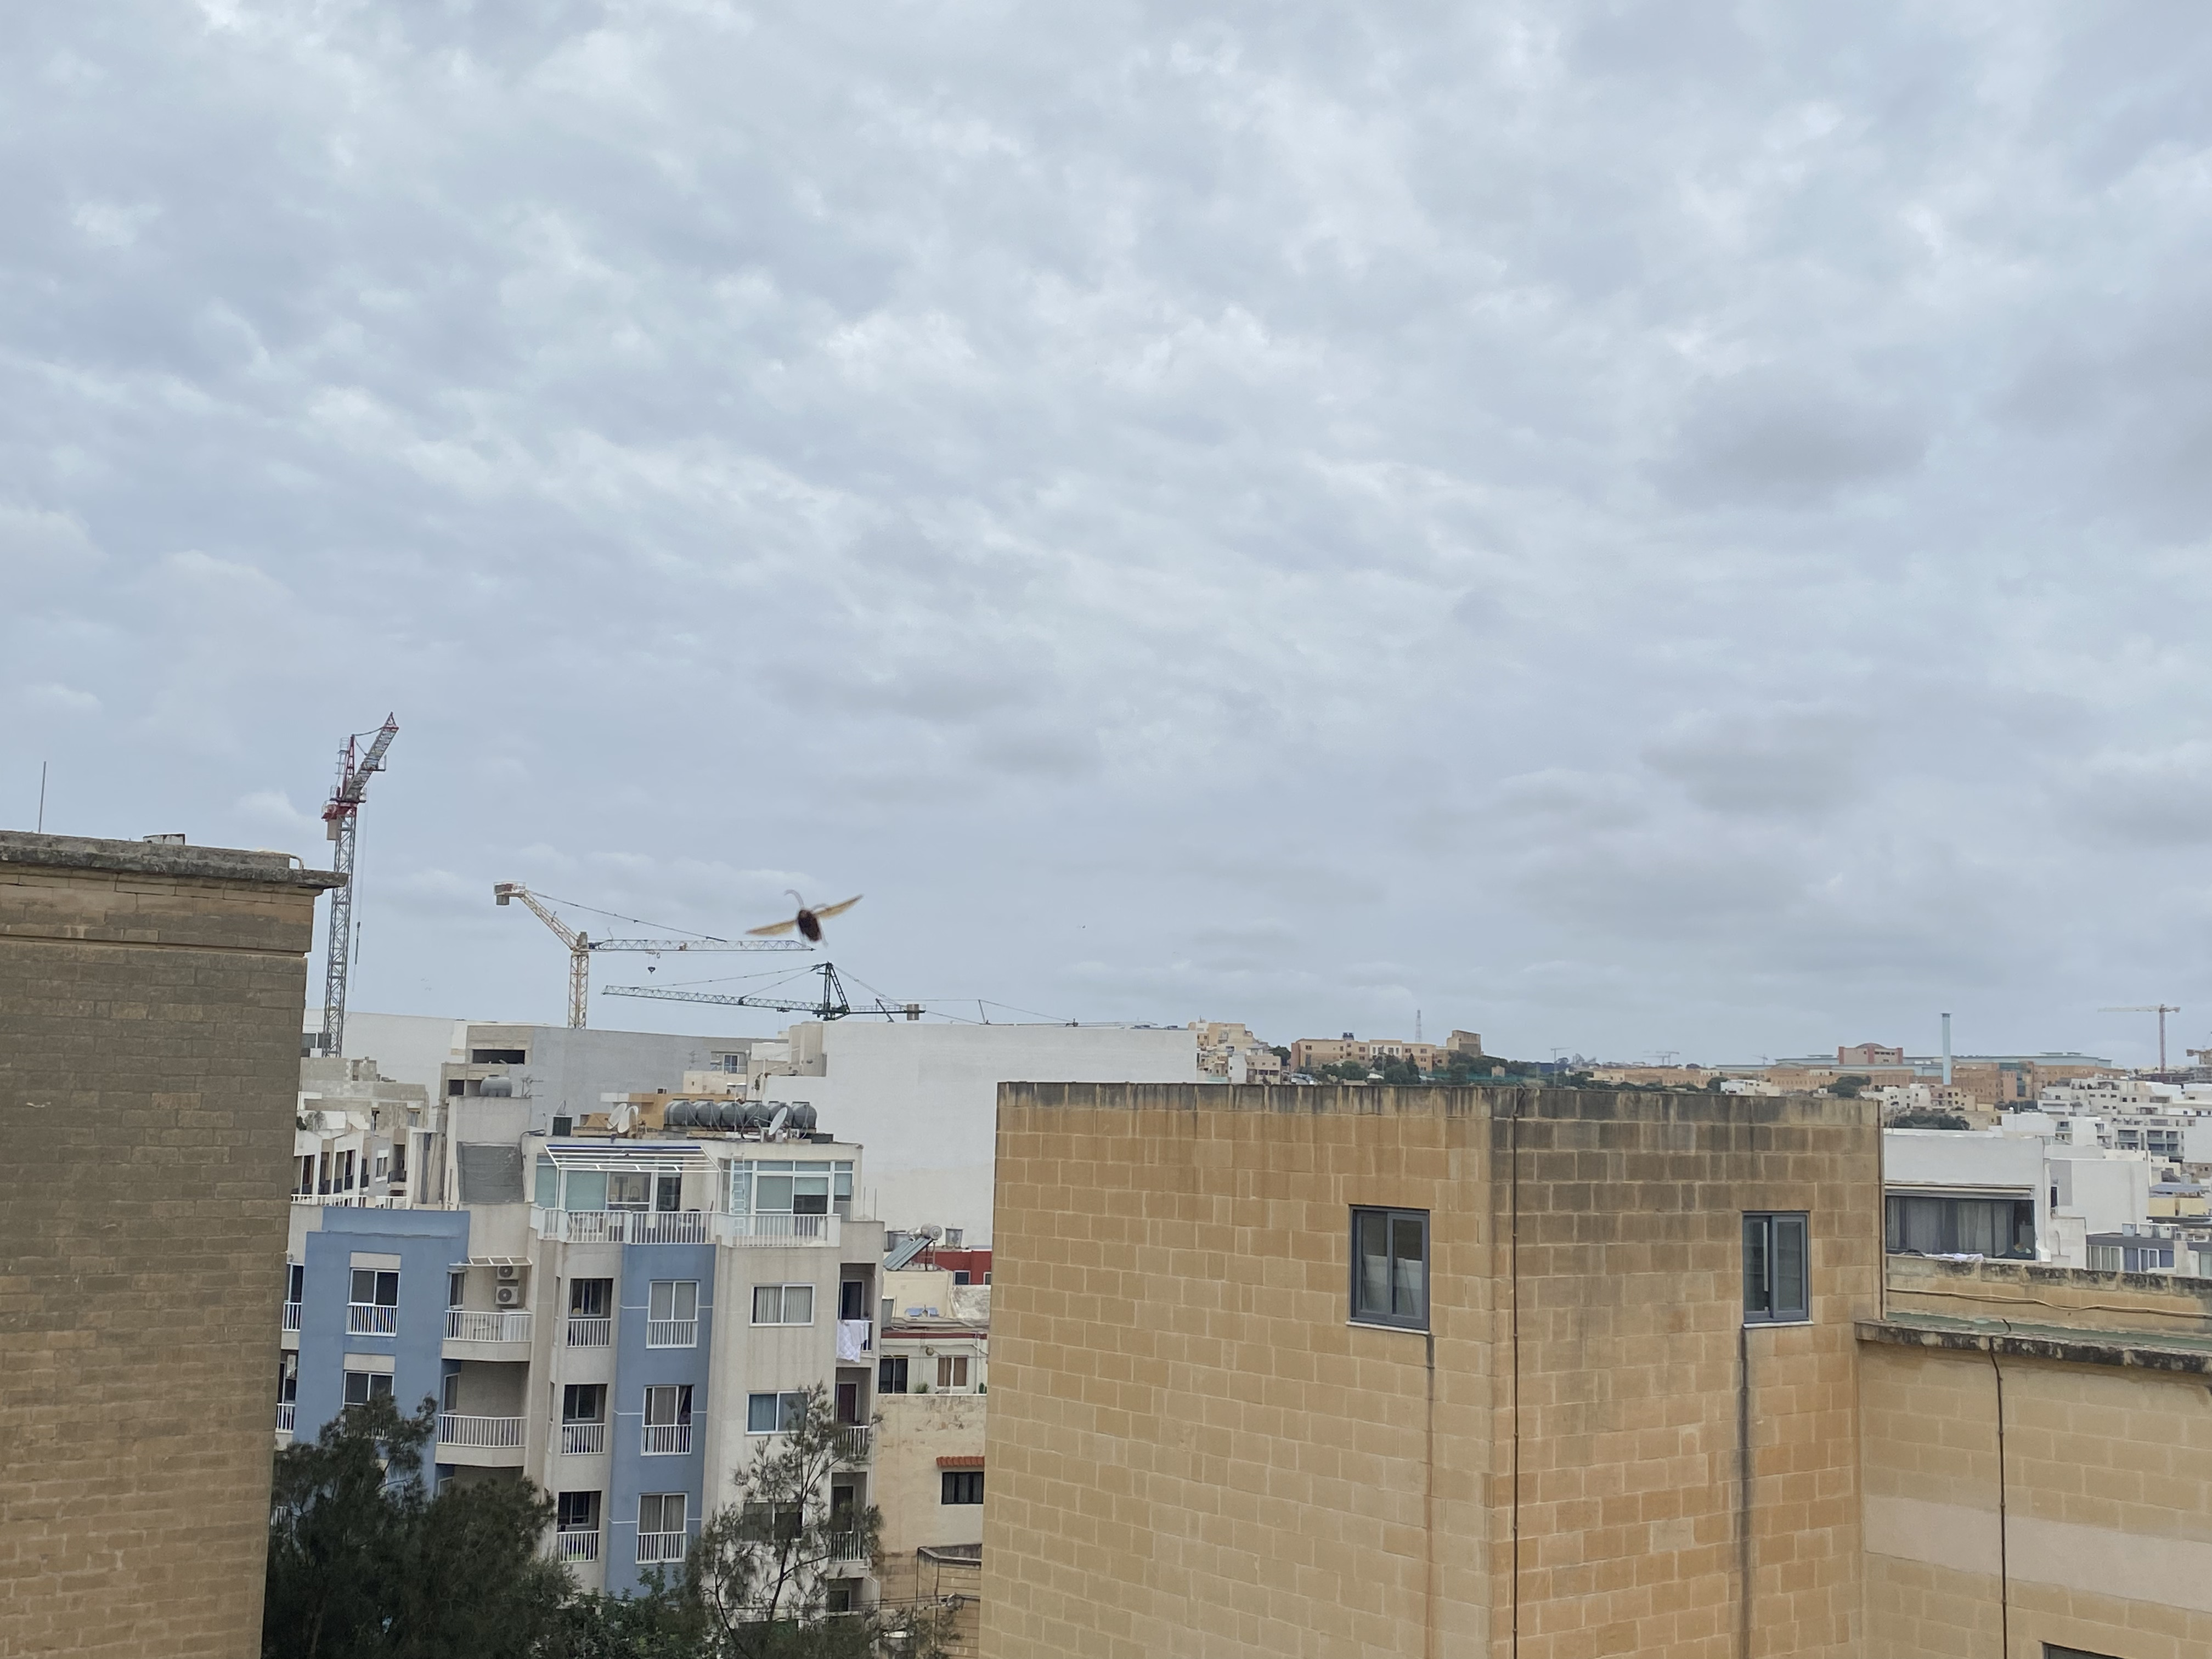Crane: (472, 866, 824, 1042), (307, 702, 404, 1053), (594, 953, 934, 1042), (2085, 990, 2186, 1072)
